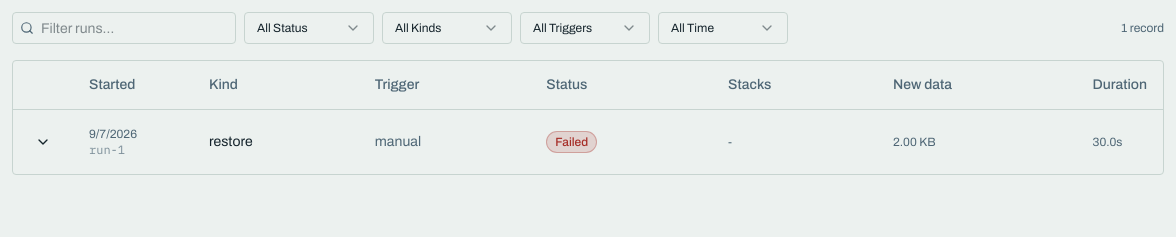
Test: BackupHistoryTab — expandable run rows › shows a failed restore run's error message instead of "no per-stack records"
The width and height of the screenshot is (1176, 237).
Check: the text "run-1" is shown, box x1=89 y1=142 x2=125 y2=156
Click the button named "Show details for run run-1": (43, 142) x1=29 y1=128 x2=57 y2=156
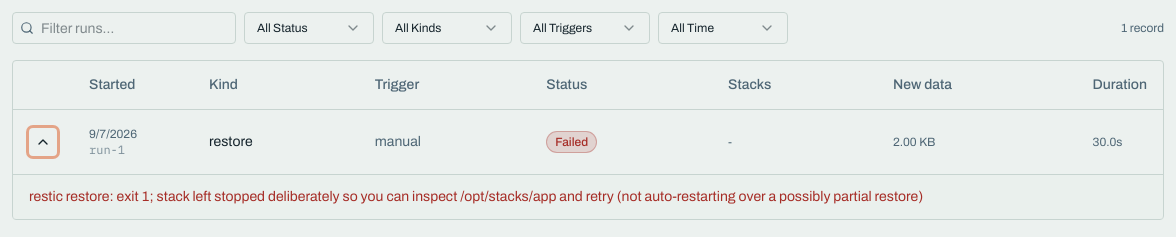
Check: the text with test id "run-error-message-run-1" shows "restic restore: exit 1; stack left stopped deliberately so you can inspect /opt/stacks/app and retry (not auto-restarting over a possibly partial restore)", box x1=29 y1=188 x2=923 y2=204
